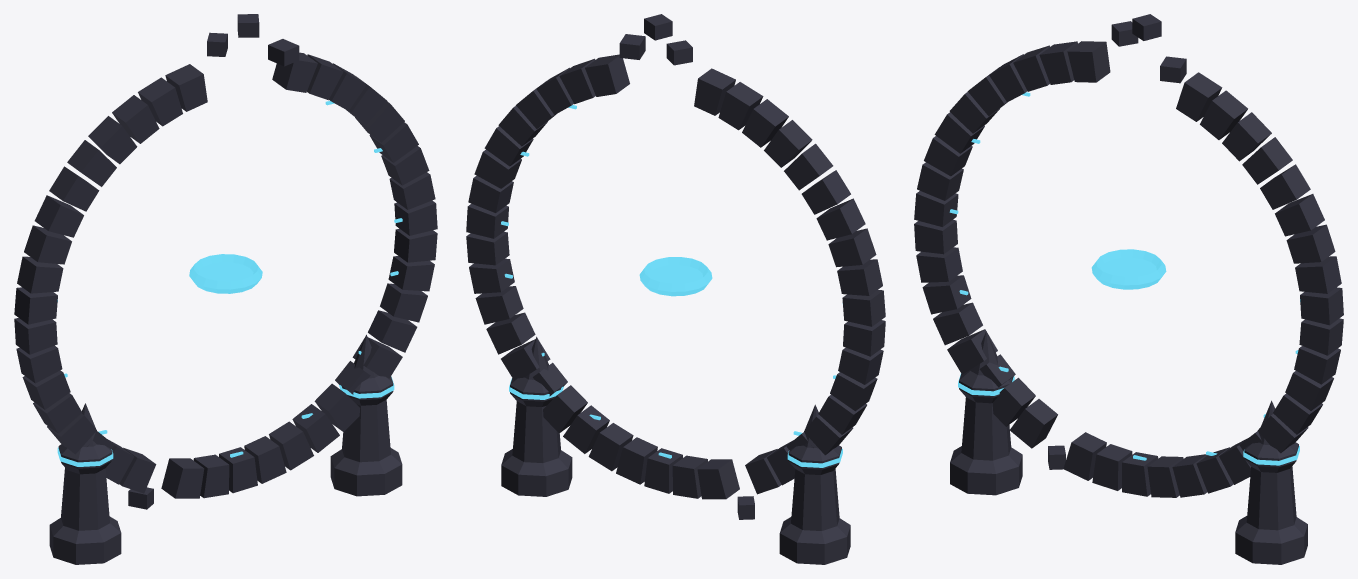
File: Distant_03_quest.glb
3 renders of one model, left to right at view 1: azimuth 30°, elevation 25°; view 2: azimuth 150°, elevation 25°; view 3: azimuth 330°, elevation 25°, orthographic. The views are drawn at different scales.
Parts seen in each view (by area): view 1: Distant_03_Body, Distant_03_Lights; view 2: Distant_03_Body, Distant_03_Lights; view 3: Distant_03_Body, Distant_03_Lights.
Part boxes in pixels (bbox=[...]): Distant_03_Body: bbox=[14, 14, 437, 564]; Distant_03_Lights: bbox=[57, 101, 402, 466]; Distant_03_Body: bbox=[466, 14, 885, 564]; Distant_03_Lights: bbox=[501, 105, 842, 467]; Distant_03_Body: bbox=[914, 14, 1343, 564]; Distant_03_Lights: bbox=[949, 80, 1300, 465].
Size of the model in its own units: 204 by 235 by 32.
